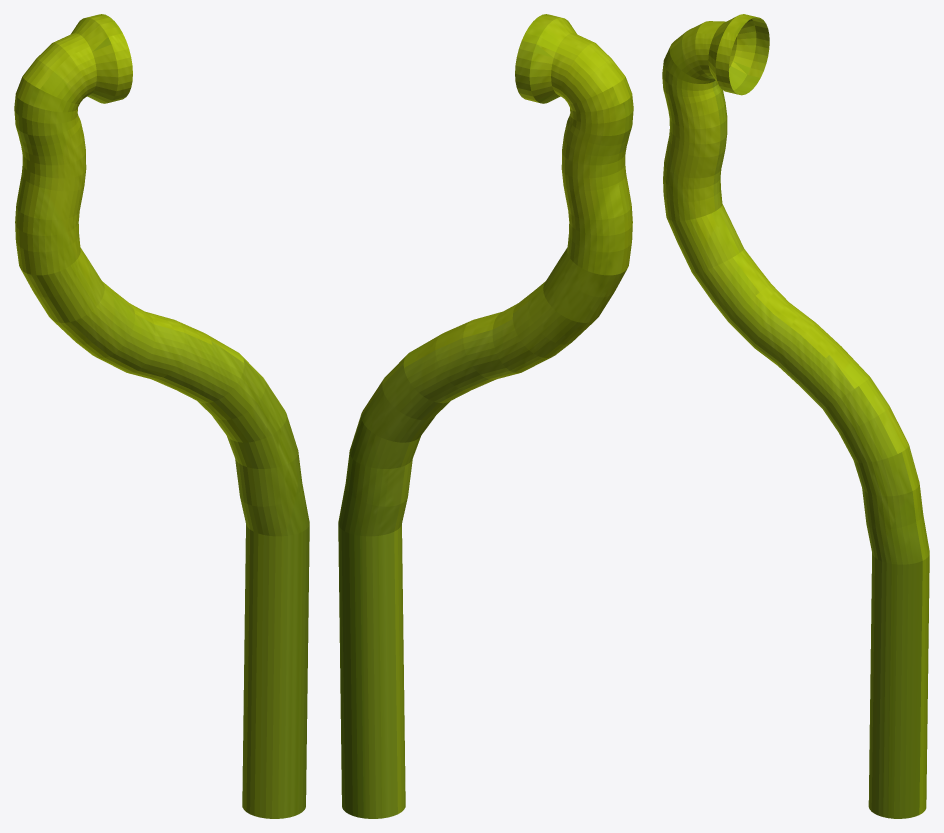
Rendered from piranha plant_tallo.obj.
3 views of the same model, side by side, from view 1: azimuth 30°, elevation 25°; view 2: azimuth 150°, elevation 25°; view 3: azimuth 330°, elevation 25° (orthographic). The views are drawn at different scales.
Parts seen in each view (by area): view 1: Cilindro; view 2: Cilindro; view 3: Cilindro.
Boxes of the visible parts, bbox=[...] form: Cilindro: bbox=[14, 14, 309, 818]; Cilindro: bbox=[338, 14, 633, 818]; Cilindro: bbox=[662, 14, 929, 818].
Bounding box in the file's own units: 1.82 × 5.02 × 0.4964.
Materials: 1 (1 with a texture image).
